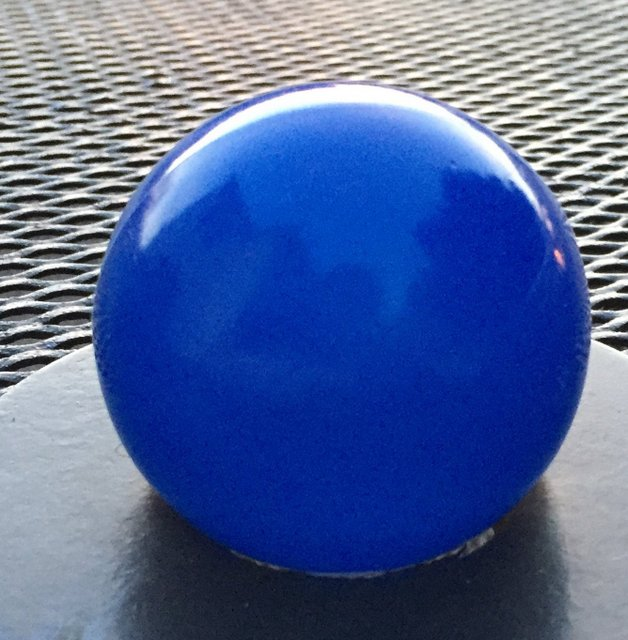Ball: (93, 83, 591, 575)
